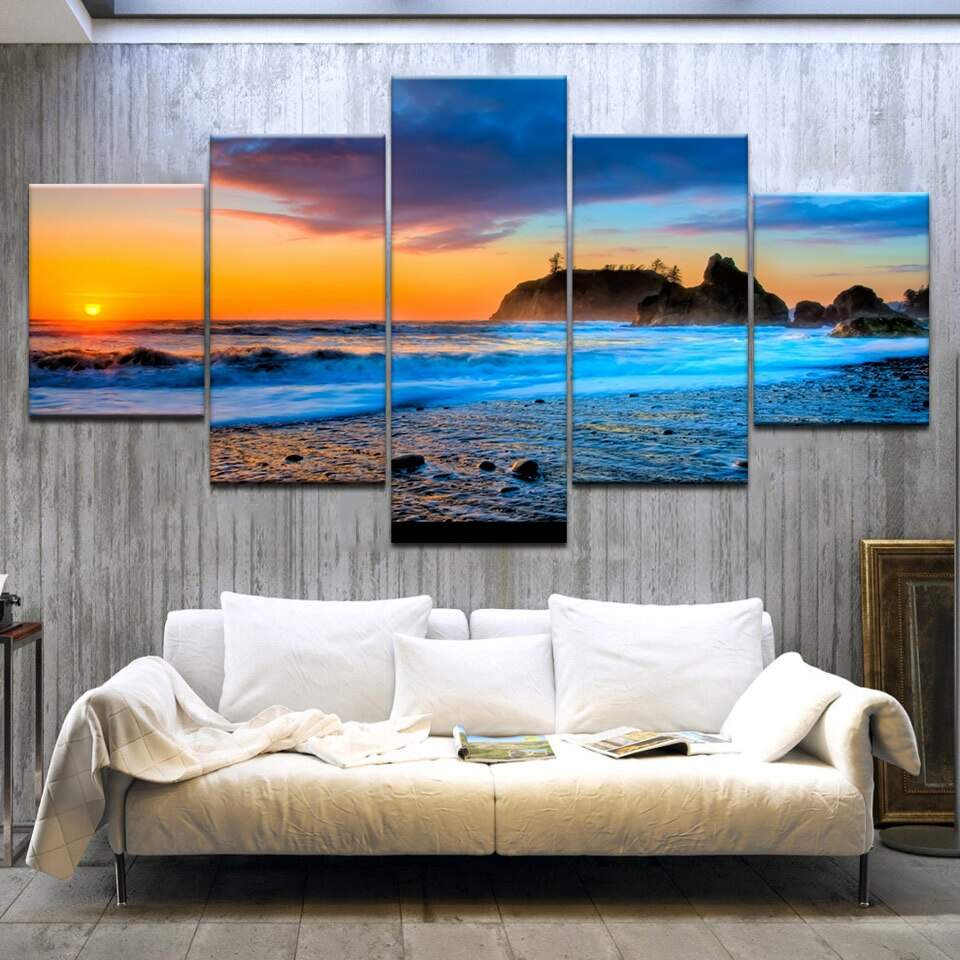lukisan: (4, 70, 960, 563)
